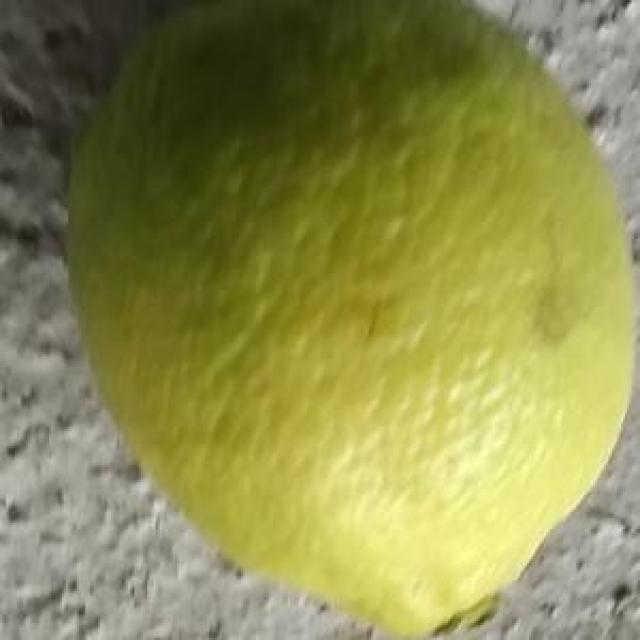lemon: (62, 0, 640, 640)
